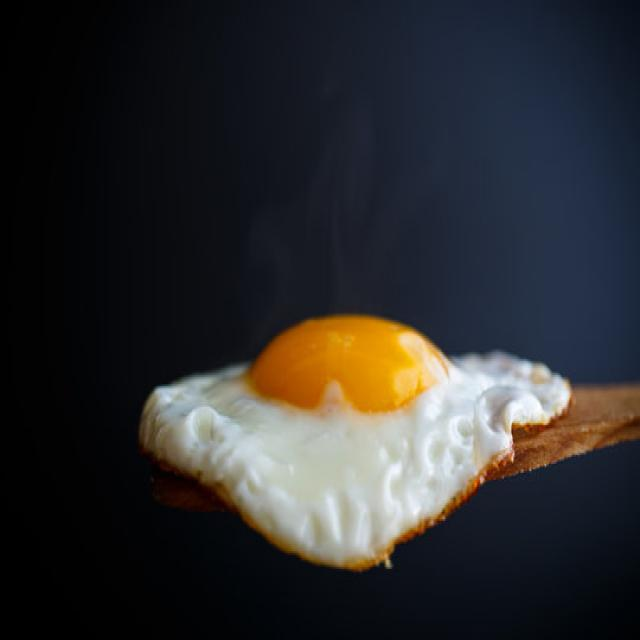Egg: (139, 315, 571, 569)
